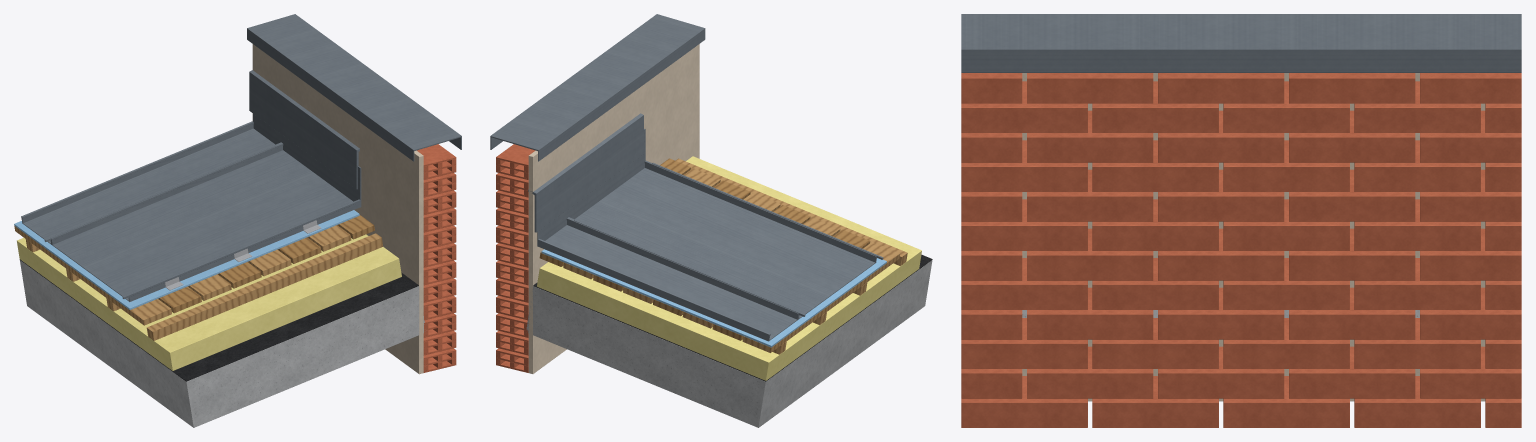
Rendered from detalle9_zinc_junta_alzada.glb.
3 views of the same model, side by side, from view 1: azimuth 30°, elevation 25°; view 2: azimuth 150°, elevation 25°; view 3: azimuth 270°, elevation 25° (orthographic). The views are drawn at different scales.
Parts seen in each view (by area): view 1: D9_Bandejas_Zinc, D9_Forjado, D9_Peto, D9_Remate_Peto, D9_AT, D9_Entarimado, D9_Rastreles_Camara, D9_BV, D9_Esterilla_Drenante, D9_Juntas_Alzadas, D9_Patas_Inox; view 2: D9_Bandejas_Zinc, D9_Forjado, D9_Peto, D9_Remate_Peto, D9_AT, D9_Entarimado, D9_Esterilla_Drenante, D9_Rastreles_Camara, D9_Juntas_Alzadas, D9_BV; view 3: D9_Peto, D9_Remate_Peto.
Part boxes in pixels (x1,y1,x2,y2): D9_Bandejas_Zinc: [21, 113, 361, 301]; D9_Forjado: [20, 260, 424, 427]; D9_Peto: [252, 44, 456, 374]; D9_Remate_Peto: [247, 14, 461, 189]; D9_AT: [17, 234, 401, 370]; D9_Entarimado: [14, 215, 374, 325]; D9_Rastreles_Camara: [25, 233, 383, 340]; D9_BV: [19, 259, 418, 381]; D9_Esterilla_Drenante: [14, 210, 359, 309]; D9_Juntas_Alzadas: [44, 145, 354, 298]; D9_Patas_Inox: [165, 220, 321, 290]; D9_Bandejas_Zinc: [537, 129, 876, 341]; D9_Forjado: [526, 260, 932, 427]; D9_Peto: [496, 44, 699, 373]; D9_Remate_Peto: [490, 14, 705, 232]; D9_AT: [537, 156, 921, 380]; D9_Entarimado: [539, 158, 900, 352]; D9_Esterilla_Drenante: [541, 249, 886, 347]; D9_Rastreles_Camara: [675, 158, 907, 354]; D9_Juntas_Alzadas: [574, 162, 883, 316]; D9_BV: [533, 254, 932, 381]; D9_Peto: [961, 73, 1521, 427]; D9_Remate_Peto: [961, 14, 1521, 72].
Size of the model in its own units: 1.21 by 0.9355 by 1.24.
Materials: 10 (10 with a texture image).
